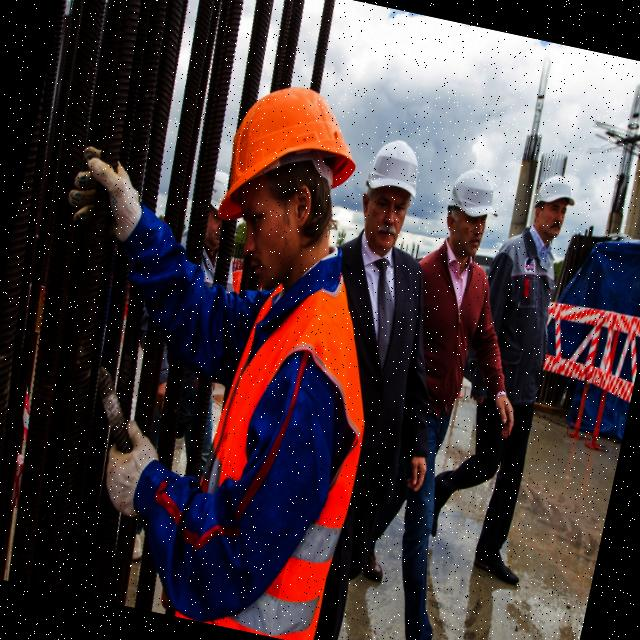Helmet: (219, 77, 368, 246), (363, 134, 429, 205), (445, 167, 506, 224), (535, 172, 581, 215)
Jacket: (185, 272, 371, 640)
NoJacket: (483, 223, 574, 406), (408, 248, 491, 423), (351, 254, 433, 389)
